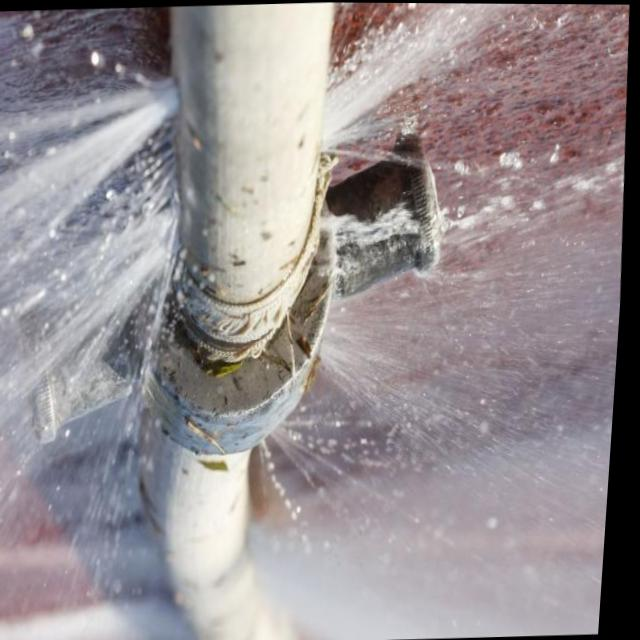leak: (251, 3, 629, 640), (0, 8, 192, 640)
